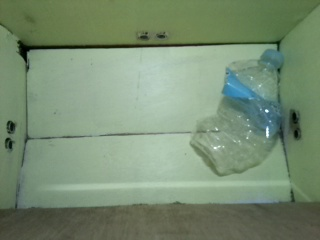damaged-bottle: (189, 48, 286, 175)
